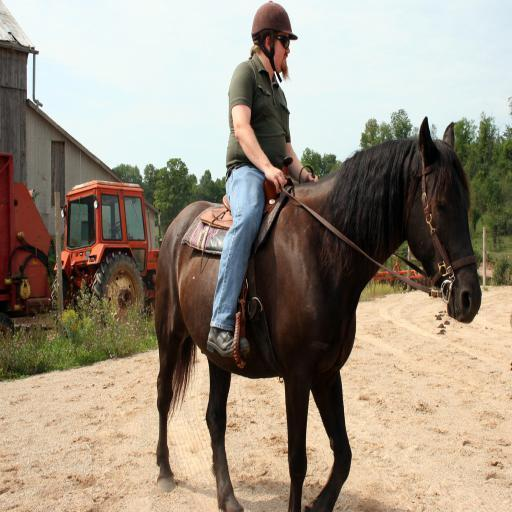horse: (155, 116, 483, 512)
